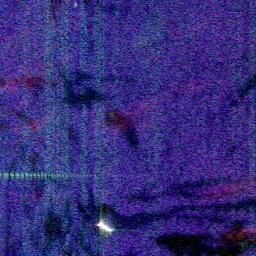Ship: (92, 217, 115, 237)
